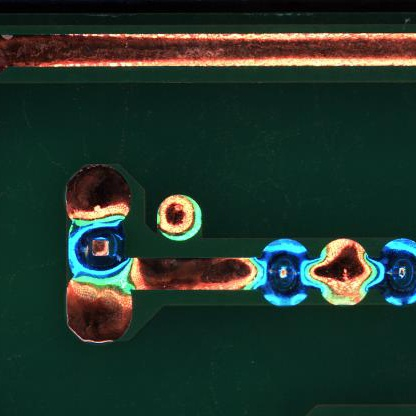spot: (66, 219, 128, 285), (258, 236, 307, 306), (379, 238, 416, 305)
